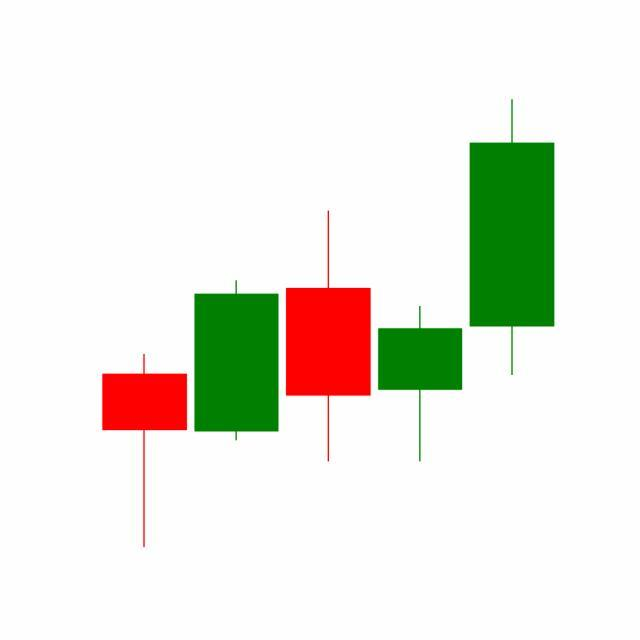Three Inside Up-Down: (280, 99, 555, 467)
